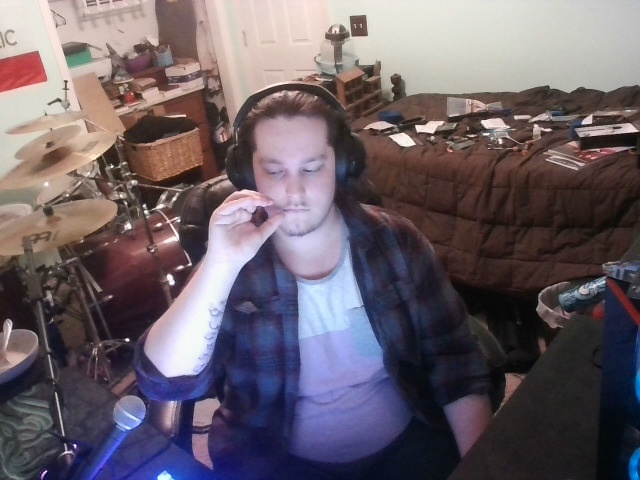drink: (203, 176, 288, 274)
